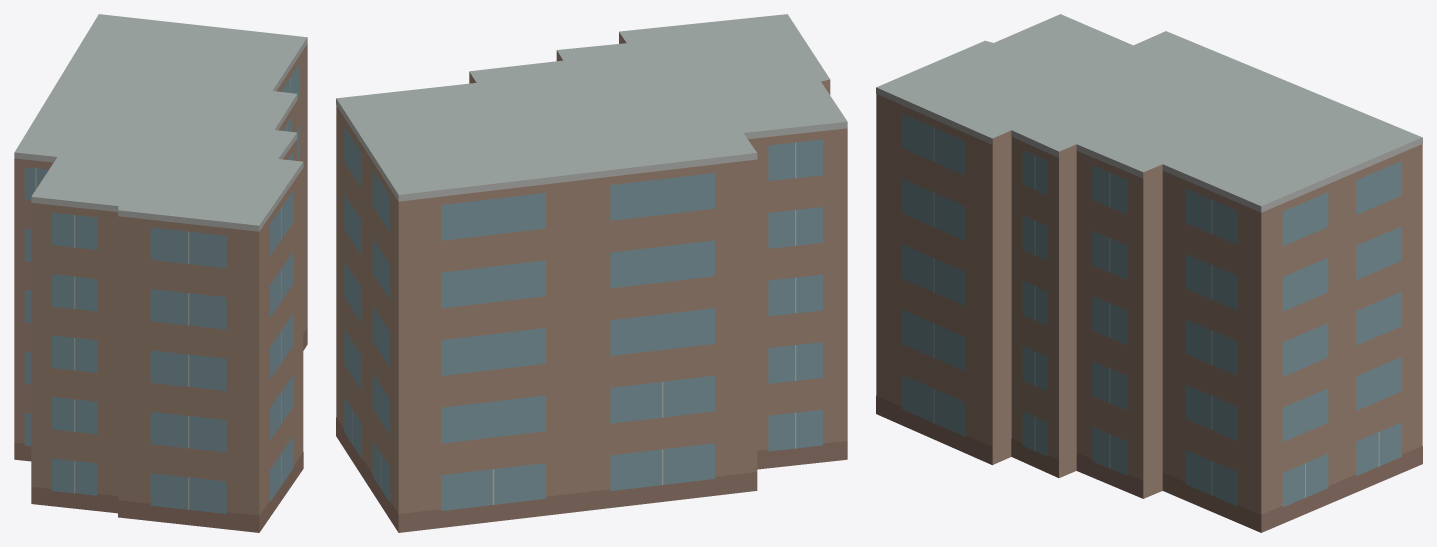
The model's file is survey-upis-32982985.glb.
3 views of the same model, side by side, from view 1: azimuth 30°, elevation 25°; view 2: azimuth 150°, elevation 25°; view 3: azimuth 270°, elevation 25° (orthographic). The views are drawn at different scales.
Visible parts, largest first — view 1: survey-upis-32982985.tmp; view 2: survey-upis-32982985.tmp; view 3: survey-upis-32982985.tmp.
Boxes of the visible parts, x1,y1,x2,y2 form: survey-upis-32982985.tmp: (14,14,307,532); survey-upis-32982985.tmp: (336,14,847,532); survey-upis-32982985.tmp: (876,14,1422,532).
Size of the model in its own units: 15.79 by 12.5 by 18.97.
